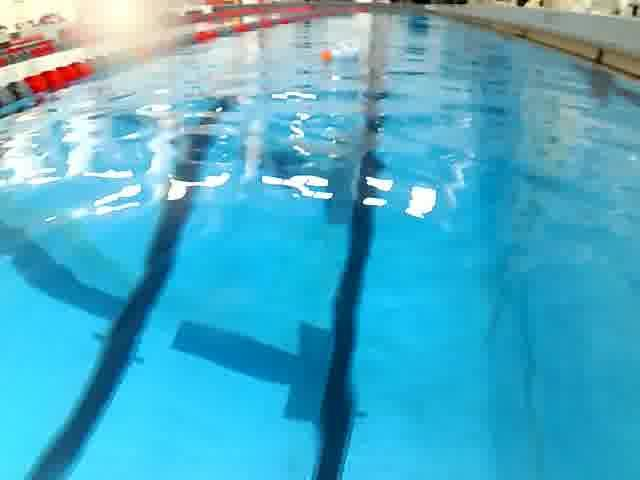Bottle: (314, 38, 378, 66)
